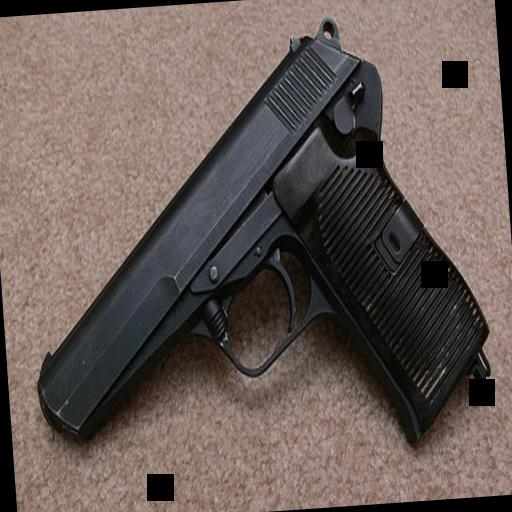Handgun: (8, 12, 496, 460)
